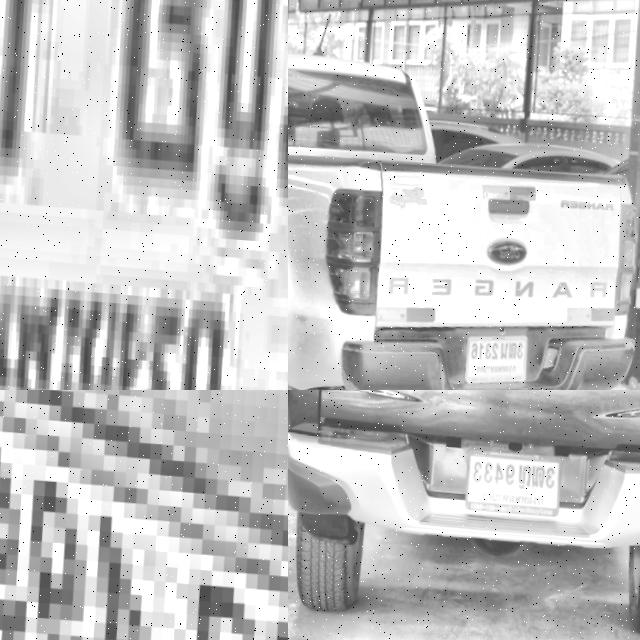license-plate: (0, 0, 288, 390), (0, 390, 288, 640), (457, 446, 562, 520), (455, 329, 527, 390)
